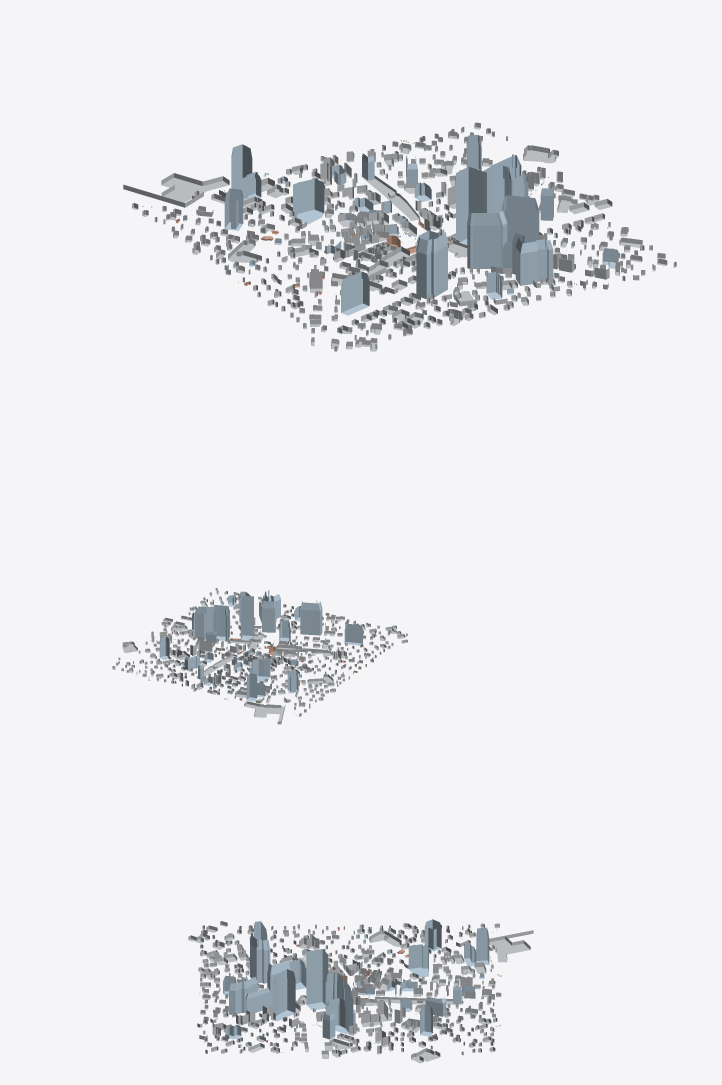
Rendered from scene-shibuya-scramble-crossing-mnlvznj4.glb.
3 views of the same model, one above another, from view 1: azimuth 30°, elevation 25°; view 2: azimuth 150°, elevation 25°; view 3: azimuth 270°, elevation 25° (orthographic). The views are drawn at different scales.
Parts seen in each view (by area): view 1: building_shells_mixed, building_shells_glass, building_shells_concrete; view 2: building_shells_mixed, building_shells_glass; view 3: building_shells_mixed, building_shells_glass, building_shells_concrete, building_shells_metal.
Boxes of the visible parts, bbox=[...] form: building_shells_mixed: bbox=[123, 122, 676, 351]; building_shells_glass: bbox=[224, 134, 619, 315]; building_shells_concrete: bbox=[336, 165, 642, 323]; building_shells_mixed: bbox=[112, 588, 407, 724]; building_shells_glass: bbox=[159, 590, 362, 701]; building_shells_mixed: bbox=[188, 921, 533, 1063]; building_shells_glass: bbox=[223, 919, 489, 1041]; building_shells_concrete: bbox=[214, 957, 483, 1052]; building_shells_metal: bbox=[346, 964, 475, 998].
Bounding box in the file's own units: 2717 × 230 × 2714.
